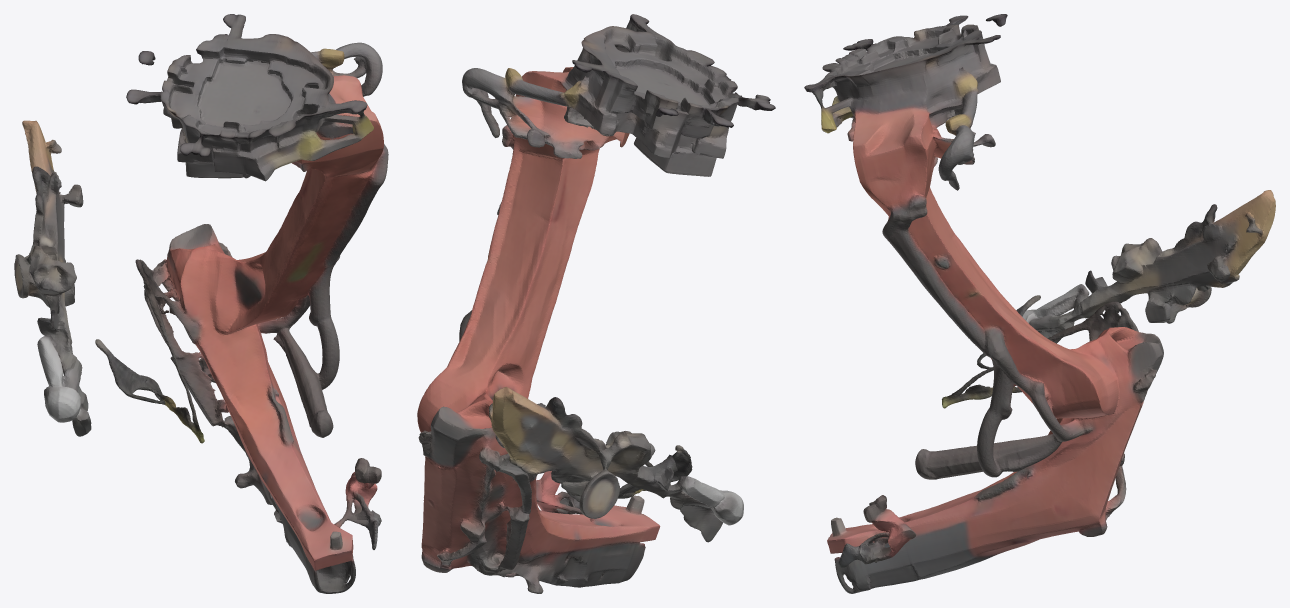
Rendered from robot-v2.glb.
3 views of the same model, side by side, from view 1: azimuth 30°, elevation 25°; view 2: azimuth 150°, elevation 25°; view 3: azimuth 270°, elevation 25° (orthographic). The views are drawn at different scales.
Parts seen in each view (by area): view 1: geometry_0; view 2: geometry_0; view 3: geometry_0.
Boxes of the visible parts, bbox=[...] form: geometry_0: bbox=[14, 14, 388, 593]; geometry_0: bbox=[417, 14, 775, 593]; geometry_0: bbox=[804, 14, 1275, 593].
Size of the model in its own units: 2.44 by 4.24 by 3.36.
